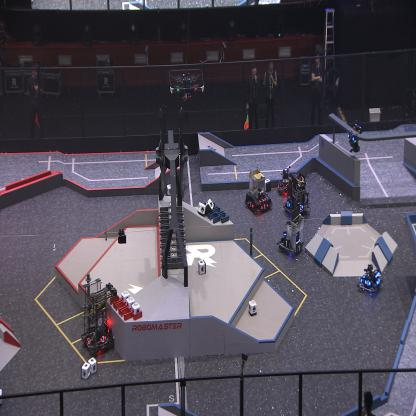car: (81, 281, 116, 358), (244, 166, 272, 215), (283, 172, 310, 219), (277, 214, 305, 258), (358, 262, 382, 296), (277, 166, 291, 197)
